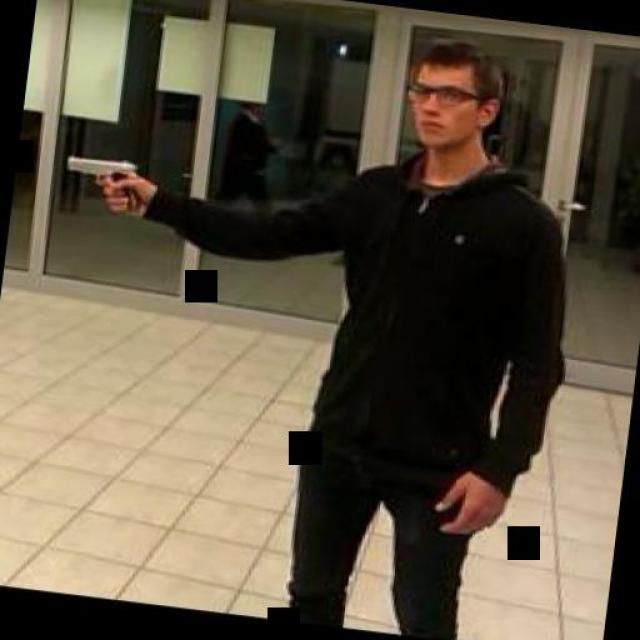gun: (55, 148, 139, 214)
